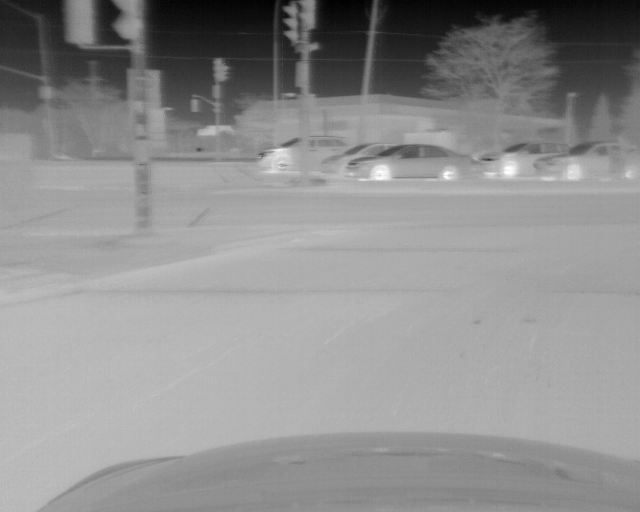car: (344, 144, 471, 179), (533, 141, 637, 181), (479, 141, 566, 179), (258, 136, 347, 172), (319, 143, 397, 175)
